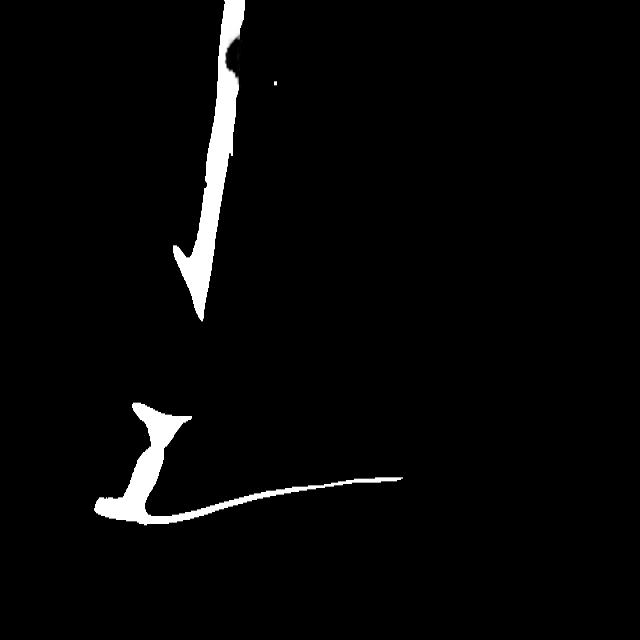sl: (213, 25, 246, 97)
